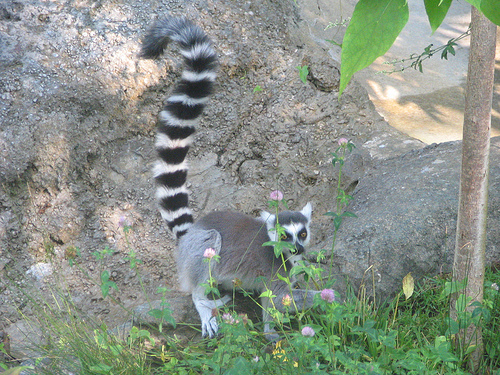cat: (135, 10, 337, 341)
